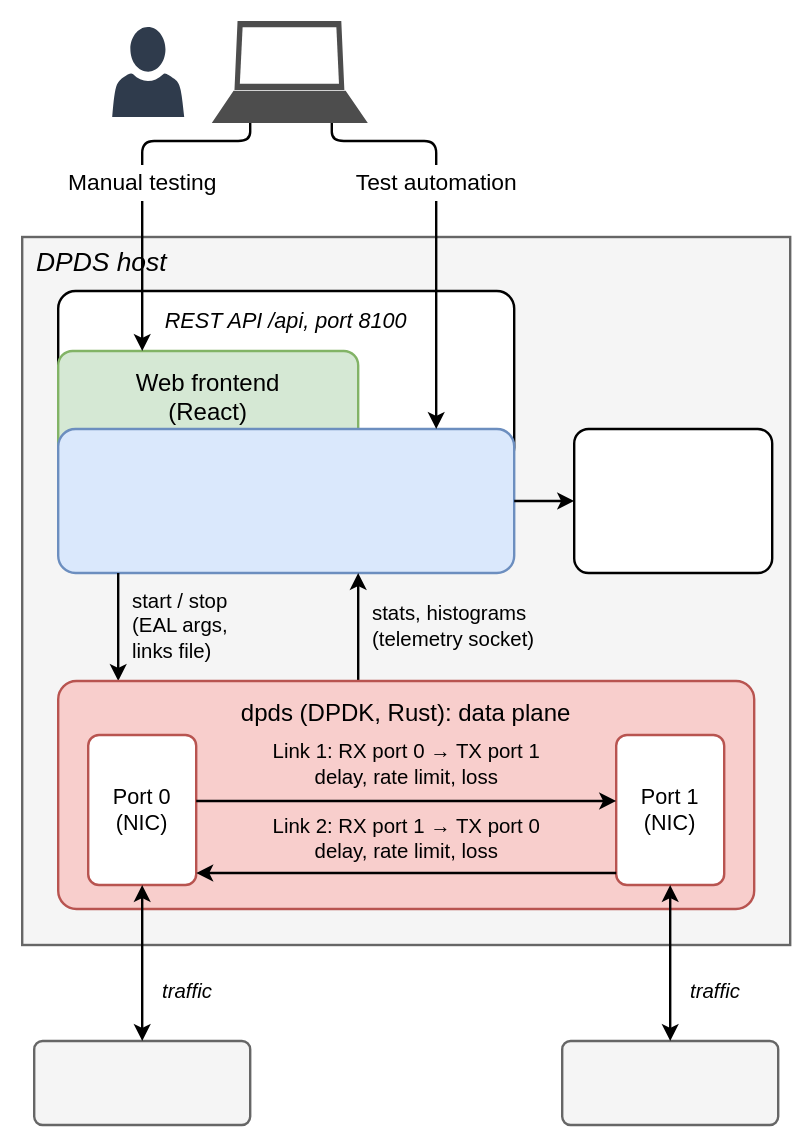
Image size: 811x1146. Some labels were removed from this diagram. The centre of each missing label's shape, as x and y in pixels:
"Controller (Rust) dpds-controller, systemd service" goes at (285,500).
"DuT or network" goes at (669,1082).
"Host interfaces and settings (sysfs, procfs)" goes at (672,500).
"Traffic generator or network" goes at (141,1082).
